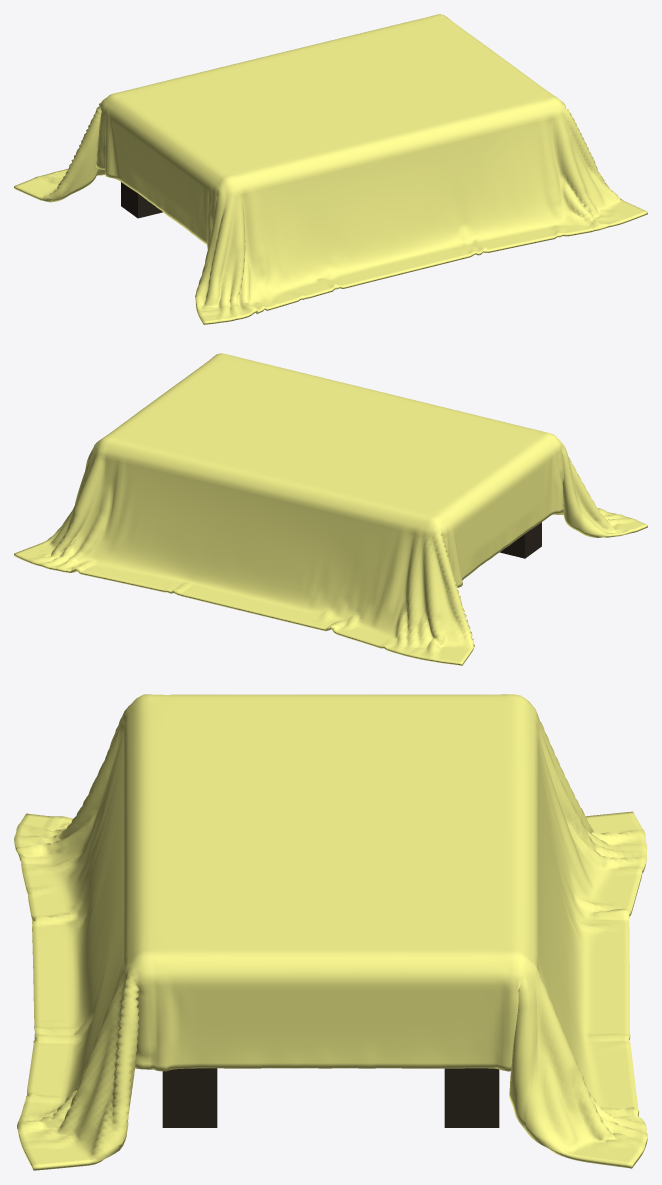
The model's file is cama.fbx.
3 renders of one model, top to bottom at view 1: azimuth 30°, elevation 25°; view 2: azimuth 150°, elevation 25°; view 3: azimuth 270°, elevation 25°, orthographic. The views are drawn at different scales.
Parts seen in each view (by area): view 1: Cama; view 2: Cama; view 3: Cama.
Boxes of the visible parts, x1,y1,x2,y2 form: Cama: (14,14,647,324); Cama: (14,353,647,665); Cama: (14,694,647,1170).
Size of the model in its own units: 3.37 by 0.7805 by 2.54.
